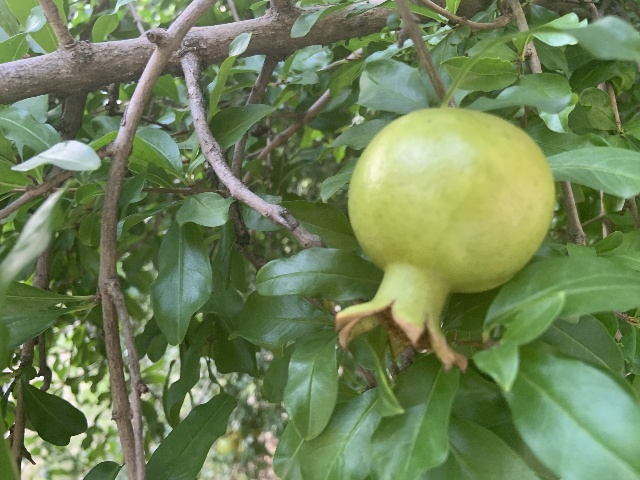mid-growth: (333, 106, 556, 372)
